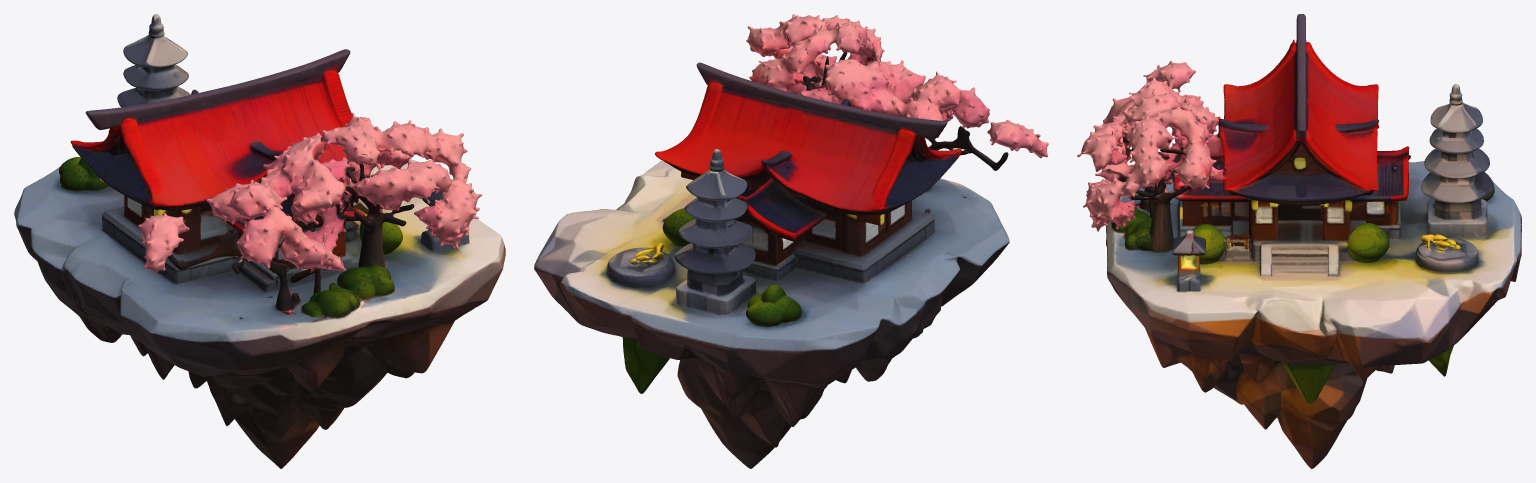
File: floating-island-temple.glb
3 views of the same model, side by side, from view 1: azimuth 30°, elevation 25°; view 2: azimuth 150°, elevation 25°; view 3: azimuth 270°, elevation 25° (orthographic). The views are drawn at different scales.
Visible parts, largest first — view 1: tripo_node_2e9f11dc-8a8a-484e-94d9-544a8fe1fa75; view 2: tripo_node_2e9f11dc-8a8a-484e-94d9-544a8fe1fa75; view 3: tripo_node_2e9f11dc-8a8a-484e-94d9-544a8fe1fa75.
Boxes of the visible parts, bbox=[...] form: tripo_node_2e9f11dc-8a8a-484e-94d9-544a8fe1fa75: bbox=[14, 14, 505, 468]; tripo_node_2e9f11dc-8a8a-484e-94d9-544a8fe1fa75: bbox=[534, 14, 1048, 468]; tripo_node_2e9f11dc-8a8a-484e-94d9-544a8fe1fa75: bbox=[1077, 14, 1521, 468].
Bounding box in the file's own units: 0.9271 × 0.9122 × 0.9999.
Materials: 1 (1 with a texture image).
